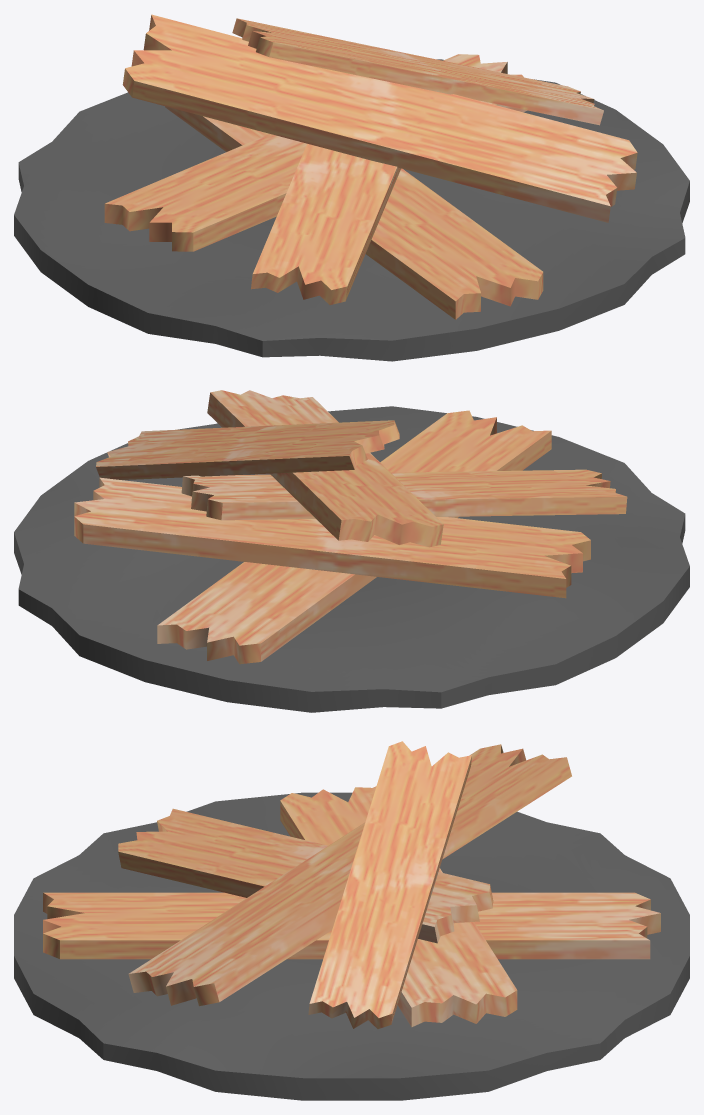
Rendered from Wood_Pile.fbx.
3 renders of one model, top to bottom at view 1: azimuth 30°, elevation 25°; view 2: azimuth 150°, elevation 25°; view 3: azimuth 270°, elevation 25°, orthographic.
Visible parts, largest first — view 1: Wood_Pile; view 2: Wood_Pile; view 3: Wood_Pile.
Part boxes in pixels (x1,y1,x2,y2): Wood_Pile: (14,14,689,361); Wood_Pile: (14,390,689,712); Wood_Pile: (14,741,689,1100).
Bounding box in the file's own units: 153 × 45.75 × 153.
